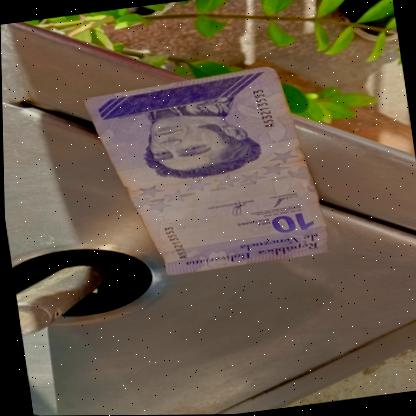ten-front-vef: (81, 63, 330, 285)
